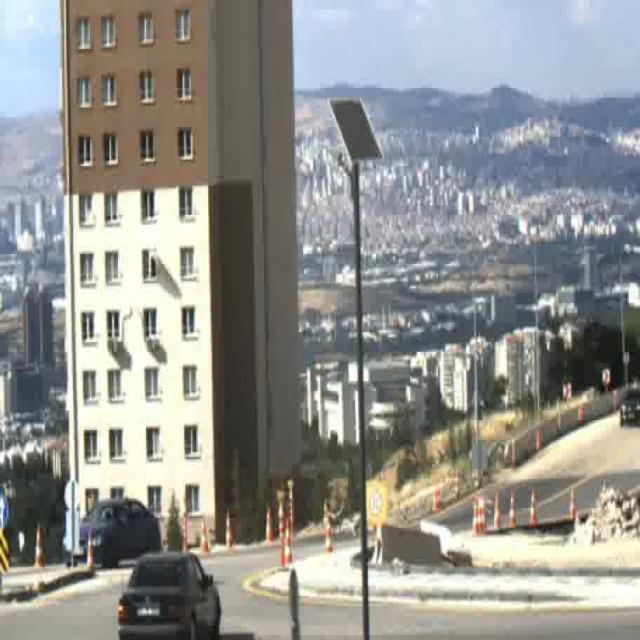Car: (117, 552, 220, 640), (64, 495, 162, 565), (619, 385, 640, 425)
